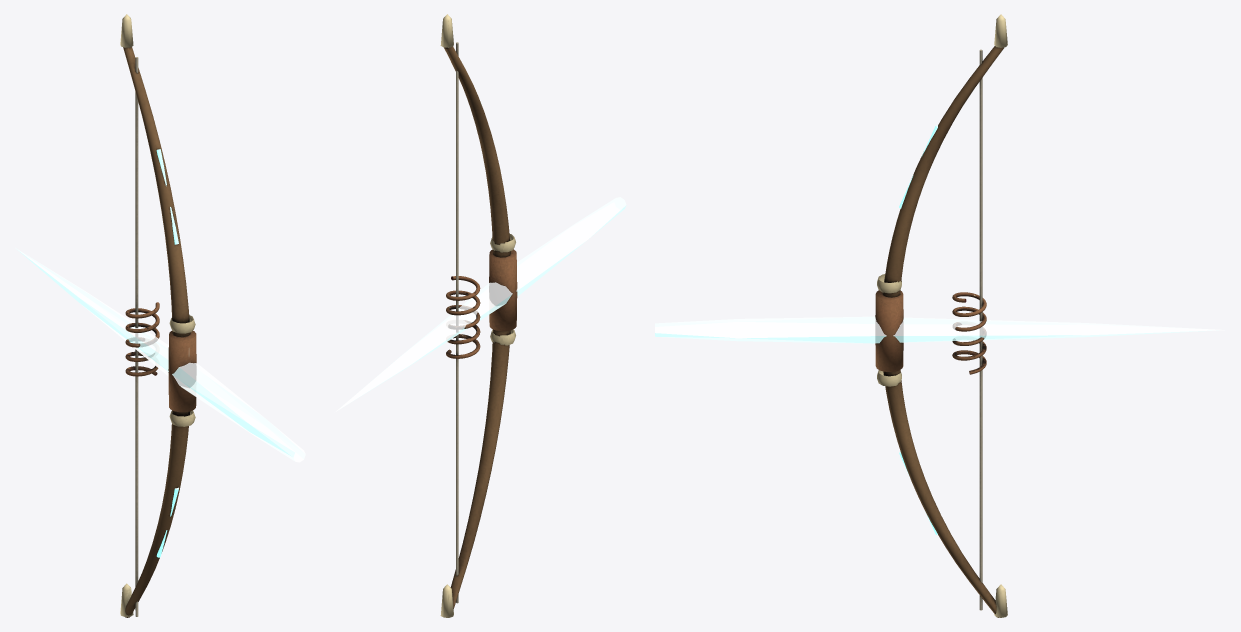
Rendered from arma_arco_curto_excelente.glb.
3 renders of one model, left to right at view 1: azimuth 30°, elevation 25°; view 2: azimuth 150°, elevation 25°; view 3: azimuth 270°, elevation 25°, orthographic.
Parts seen in each view (by area): view 1: arma_arco_curto_excelente, gema_arco; view 2: arma_arco_curto_excelente, gema_arco; view 3: arma_arco_curto_excelente, gema_arco.
Boxes of the visible parts, x1=… form: arma_arco_curto_excelente: x1=120, y1=14, x2=196, y2=617; gema_arco: x1=15, y1=248, x2=305, y2=462; arma_arco_curto_excelente: x1=440, y1=14, x2=517, y2=617; gema_arco: x1=336, y1=197, x2=626, y2=411; arma_arco_curto_excelente: x1=875, y1=14, x2=1007, y2=617; gema_arco: x1=655, y1=316, x2=1224, y2=343.
Bounding box in the file's own units: 0.0606 × 1.16 × 1.
Materials: 4 (1 with a texture image).
